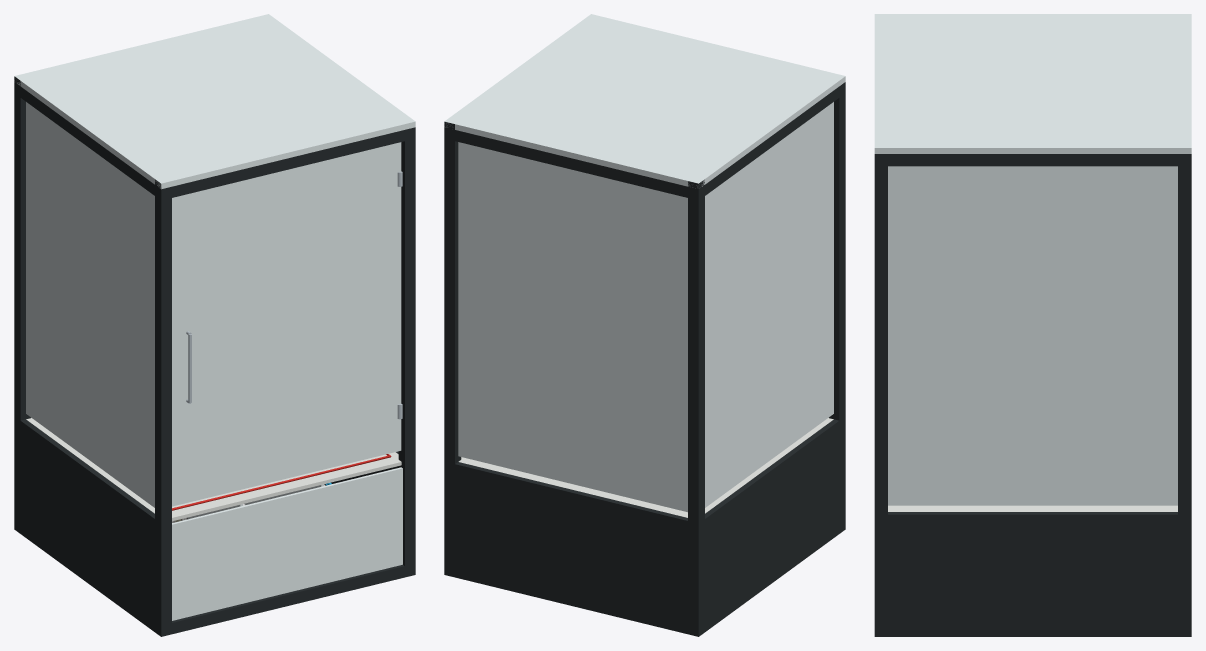
Rendered from chamber.glb.
3 renders of one model, left to right at view 1: azimuth 30°, elevation 25°; view 2: azimuth 150°, elevation 25°; view 3: azimuth 270°, elevation 25°, orthographic. The views are drawn at different scales.
Visible parts, largest first — view 1: MOV_Door, GLASS_Walls, EXPLODE_06, MOV_Cap, EXPLODE_05; view 2: GLASS_Walls, EXPLODE_06, MOV_Cap, EXPLODE_05; view 3: GLASS_Walls, EXPLODE_06, MOV_Cap, EXPLODE_05.
Boxes of the visible parts, left/top/right/bottom form: MOV_Door: left=172, top=142, right=401, bottom=506; GLASS_Walls: left=26, top=102, right=402, bottom=620; EXPLODE_06: left=14, top=76, right=415, bottom=636; MOV_Cap: left=14, top=14, right=415, bottom=189; EXPLODE_05: left=26, top=418, right=401, bottom=521; GLASS_Walls: left=458, top=102, right=833, bottom=512; EXPLODE_06: left=444, top=82, right=845, bottom=636; MOV_Cap: left=444, top=14, right=845, bottom=188; EXPLODE_05: left=458, top=418, right=833, bottom=517; GLASS_Walls: left=888, top=166, right=1177, bottom=505; EXPLODE_06: left=874, top=154, right=1191, bottom=636; MOV_Cap: left=874, top=14, right=1191, bottom=153; EXPLODE_05: left=888, top=505, right=1177, bottom=511.
Size of the model in its own units: 0.47 by 0.8 by 0.47.
Materials: 22 (10 with a texture image).
